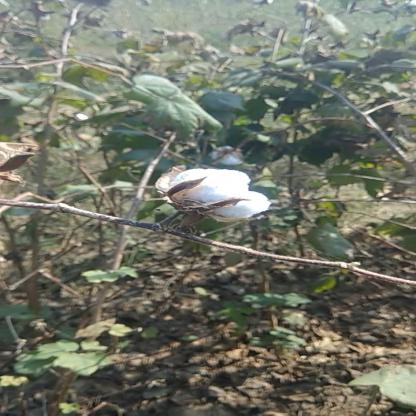cotton_ready: (140, 156, 282, 240)
